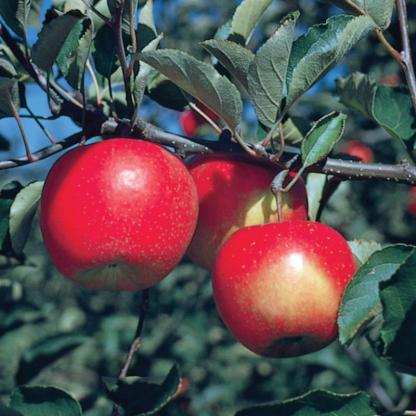apple: (42, 136, 201, 294), (212, 221, 362, 359), (169, 150, 316, 283)
